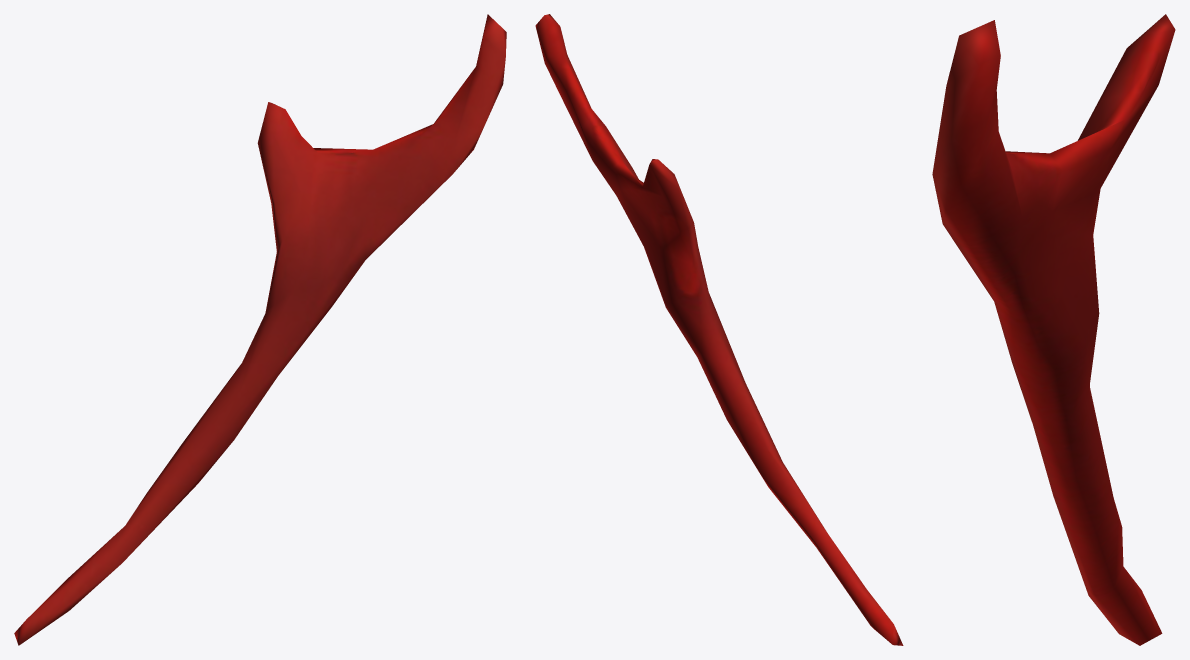
Rendered from Face_Mucle_02.glb.
The picture shows the model from 3 angles, left to right: view 1: azimuth 30°, elevation 25°; view 2: azimuth 150°, elevation 25°; view 3: azimuth 270°, elevation 25°; orthographic projection. The views are drawn at different scales.
Visible parts, largest first — view 1: Face_Mucle_02; view 2: Face_Mucle_02; view 3: Face_Mucle_02.
Boxes of the visible parts, bbox=[...] form: Face_Mucle_02: bbox=[14, 14, 506, 645]; Face_Mucle_02: bbox=[535, 14, 903, 645]; Face_Mucle_02: bbox=[932, 14, 1175, 645].
Bounding box in the file's own units: 0.2209 × 0.2634 × 0.0581.
Materials: 1 (1 with a texture image).
